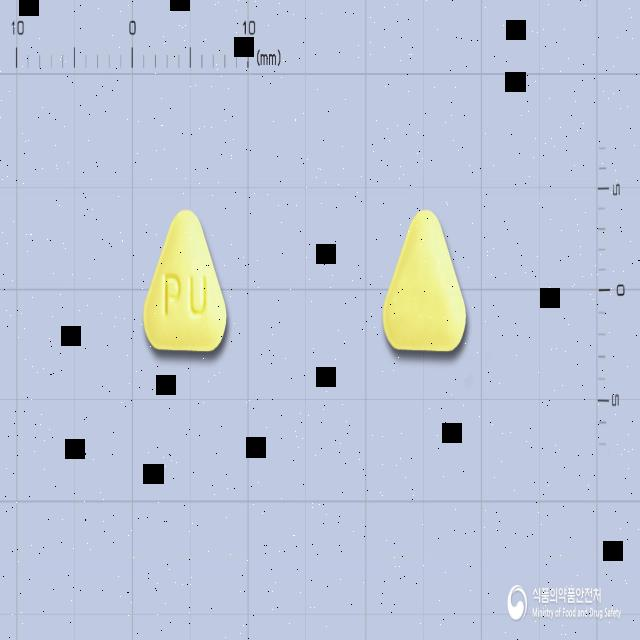Rheumakin Tab-20mg: (383, 208, 468, 352), (143, 208, 228, 350)
